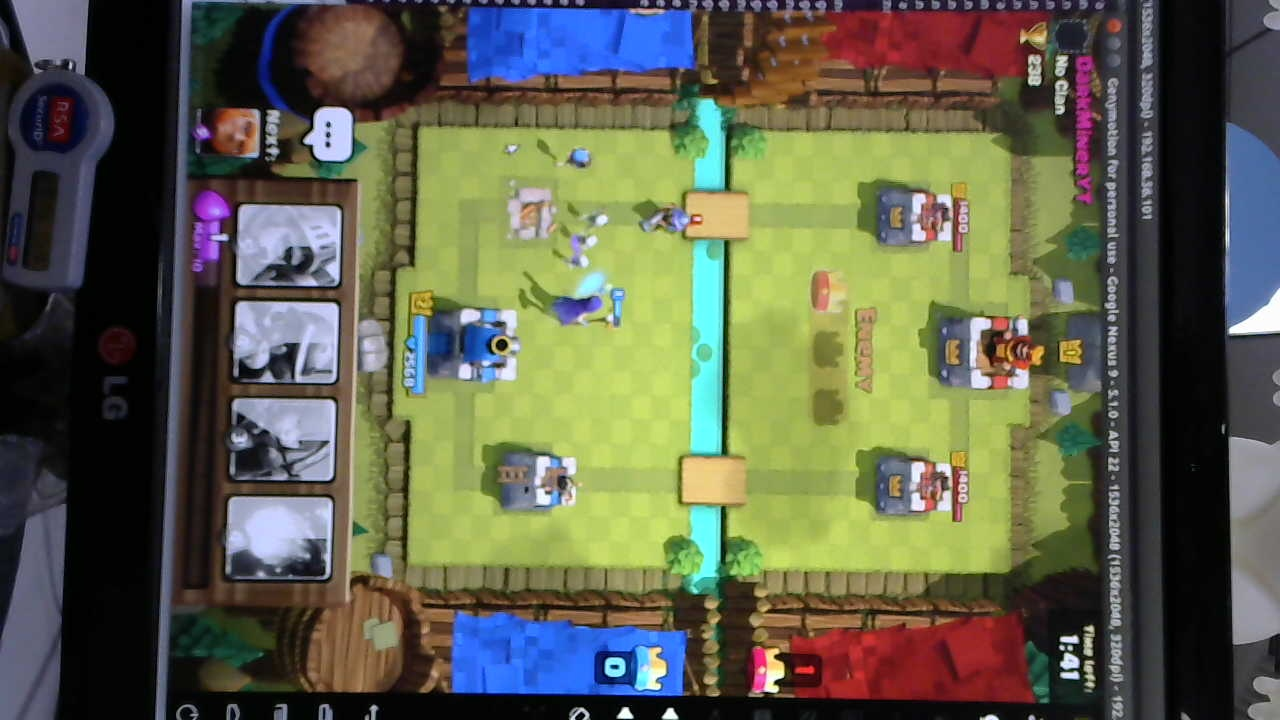arena: (501, 447, 583, 509)
bomb: (555, 143, 596, 169)
darena: (503, 186, 561, 238)
earena: (876, 454, 958, 520), (867, 189, 956, 246)
eking: (938, 311, 1043, 394)
king: (430, 304, 523, 382)
musketeer: (641, 207, 699, 237)
skeleton: (568, 206, 608, 275)
witch: (546, 289, 626, 327)
